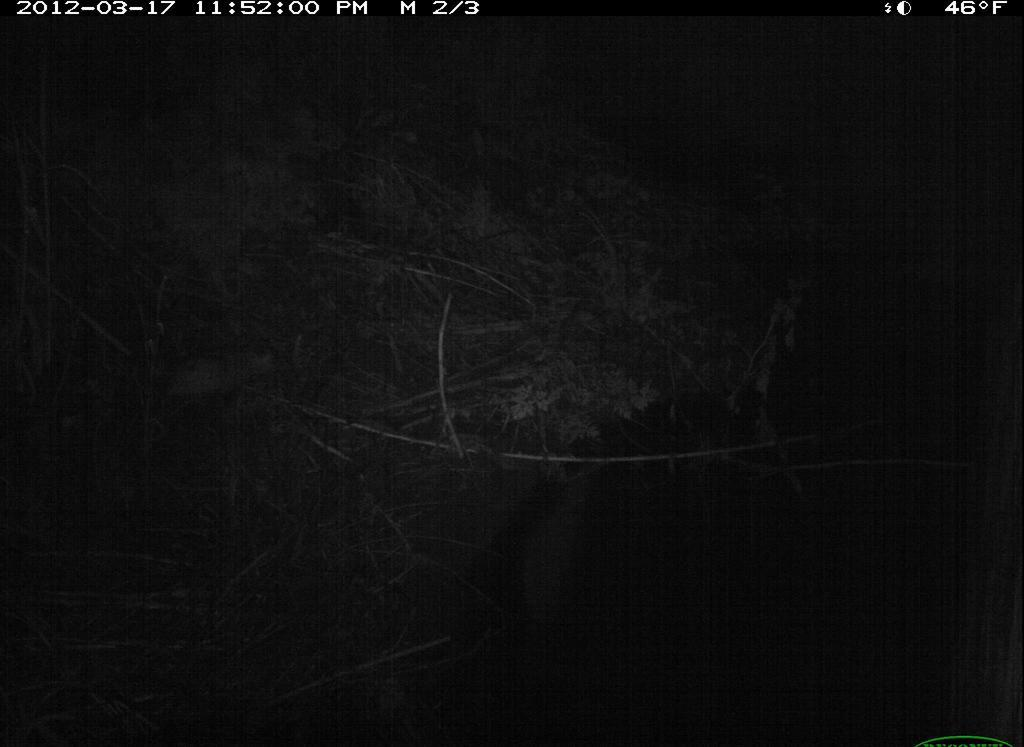opossum: (148, 336, 279, 421)
